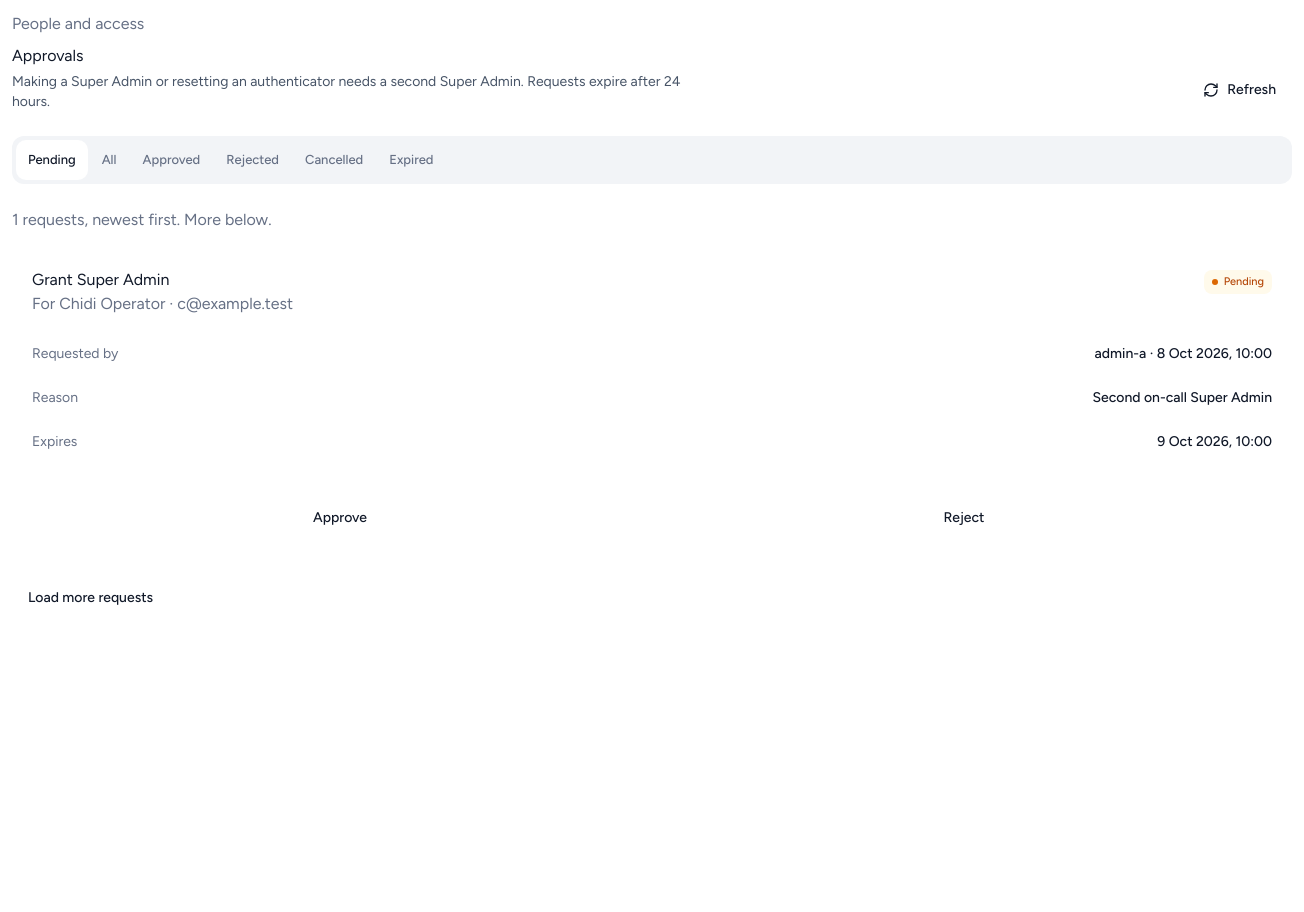
two-person approvals › starts again from the first page when the status changes, and explains a refused cursor
This screenshot has width=1304, height=912.
Check: the element that starts with "Grant Super Admin" is shown, box [12,248,1292,560]
Step 1. Click the button "Load more requests" → (91, 598), box [12,576,169,620]
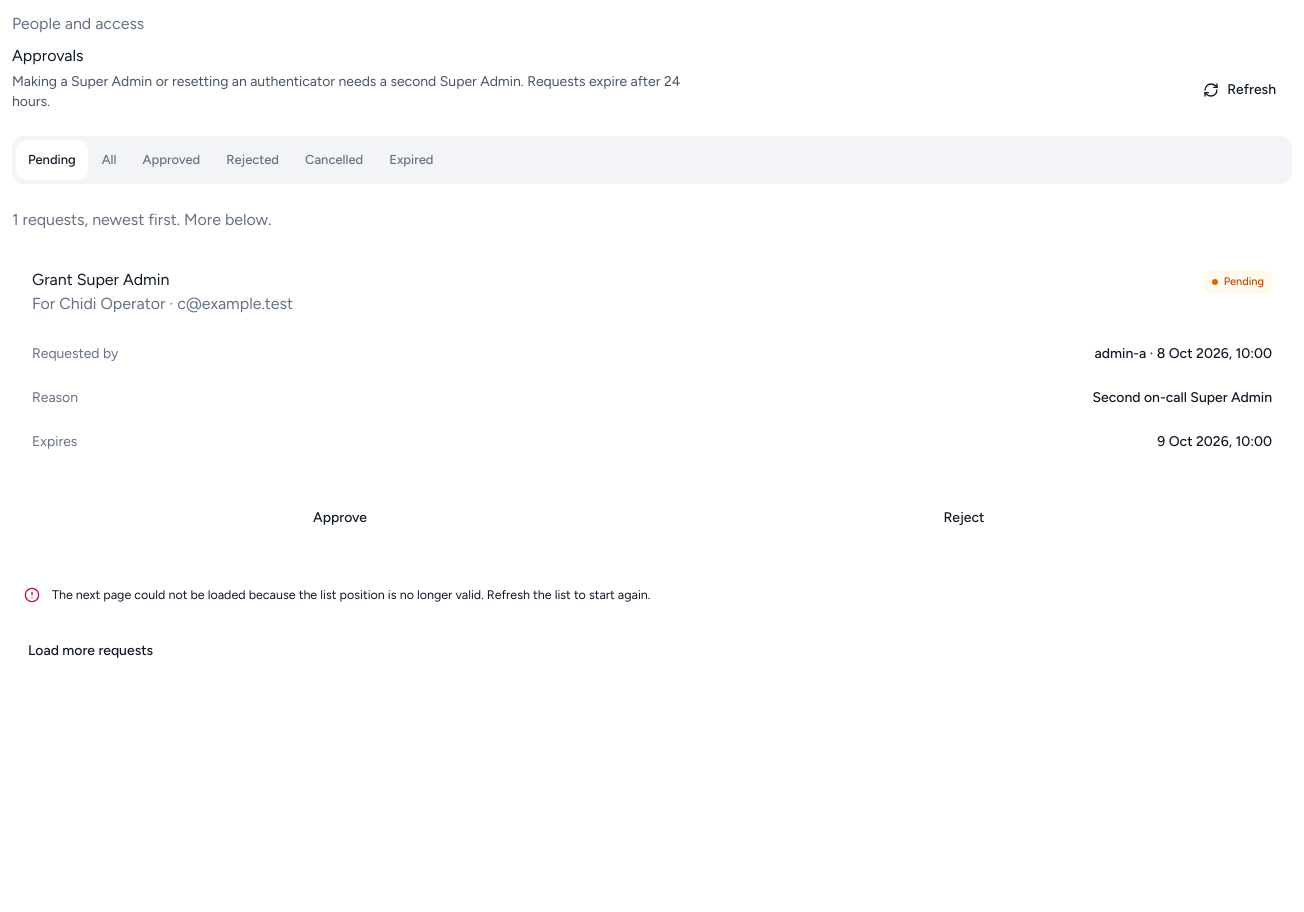
Check: the text "list position is no longer valid. Refresh the list to start again" is shown, box [52,587,650,602]
Step 2. Click the button "Approved" → (171, 160), box [130,140,212,180]
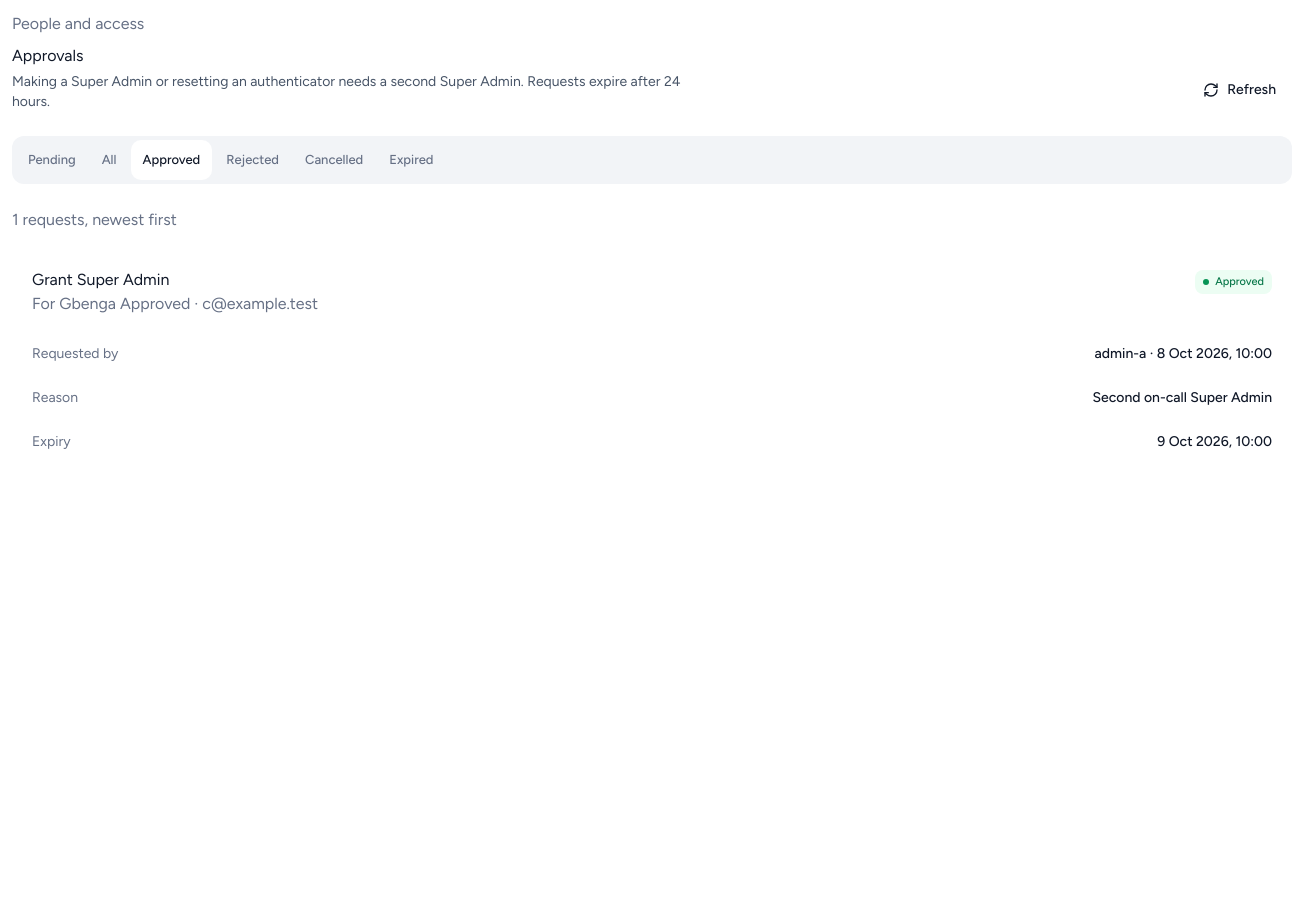
Check: the text "For Gbenga Approved · c@example.test" is shown, box [32,292,318,316]
Check: the message "The next page could not be loaded because the list position is no longer valid." is gone
Check: the button "Load more requests" is gone
